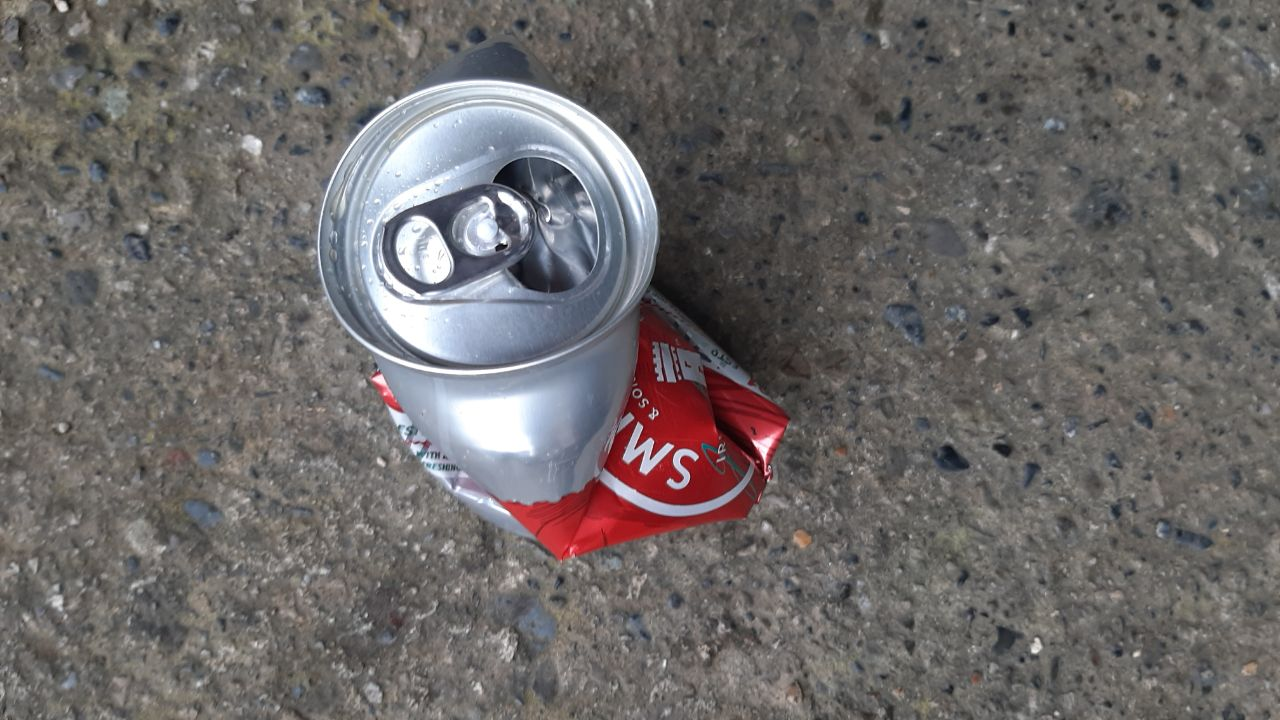Can: (312, 35, 790, 562)
